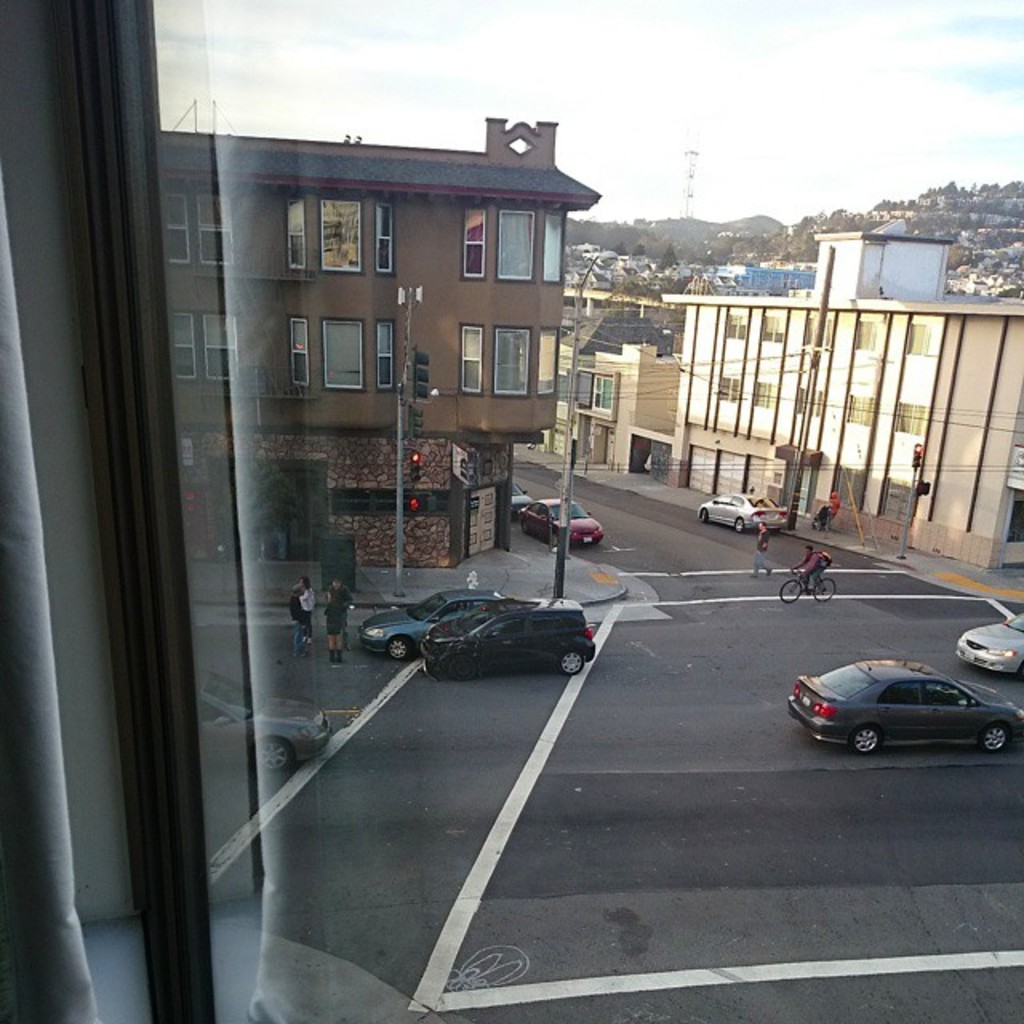Car: (792, 654, 996, 761), (417, 600, 593, 678), (363, 583, 507, 656), (518, 496, 608, 547), (956, 611, 1022, 676), (696, 489, 788, 532), (512, 481, 532, 519)
